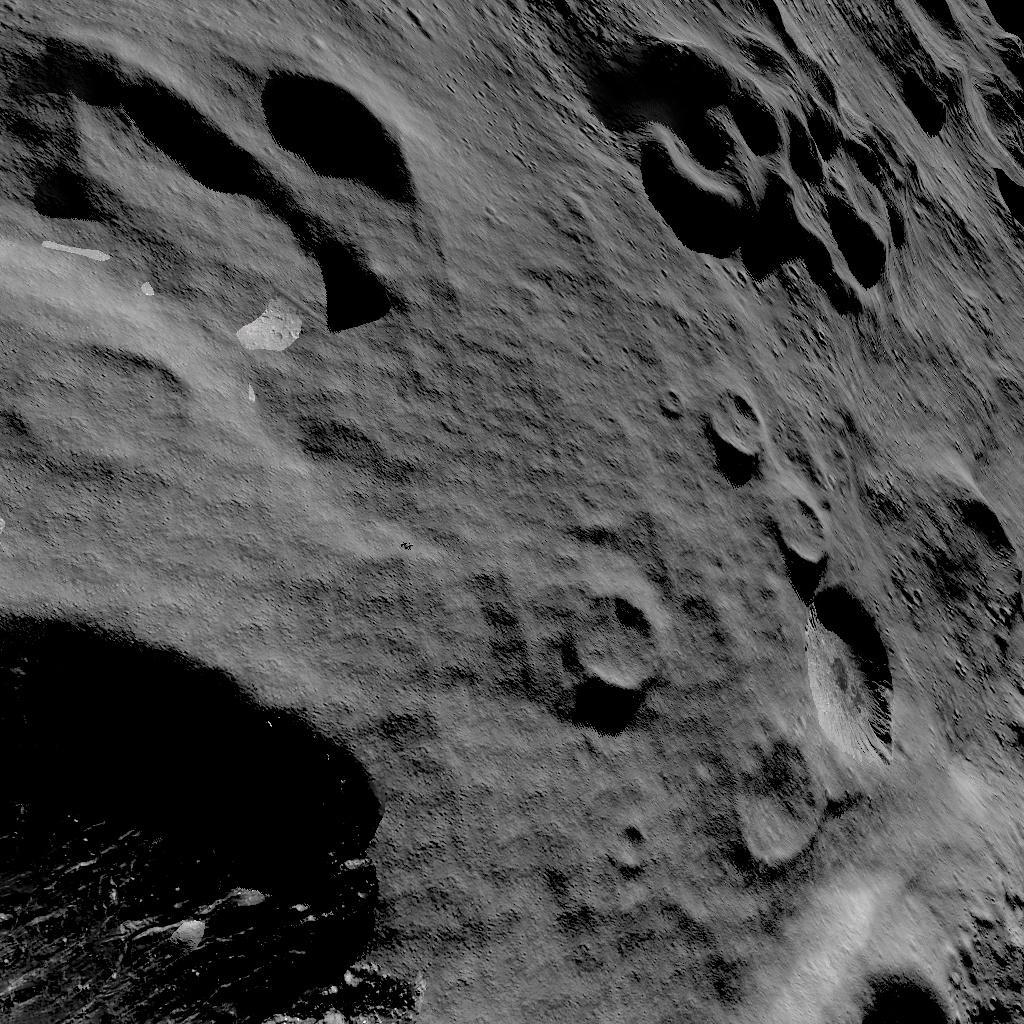Crater: (3, 598, 442, 1022), (0, 19, 429, 337), (596, 0, 1020, 300), (718, 580, 954, 906), (17, 354, 200, 496), (566, 569, 680, 716), (704, 378, 804, 466), (770, 482, 846, 568)
